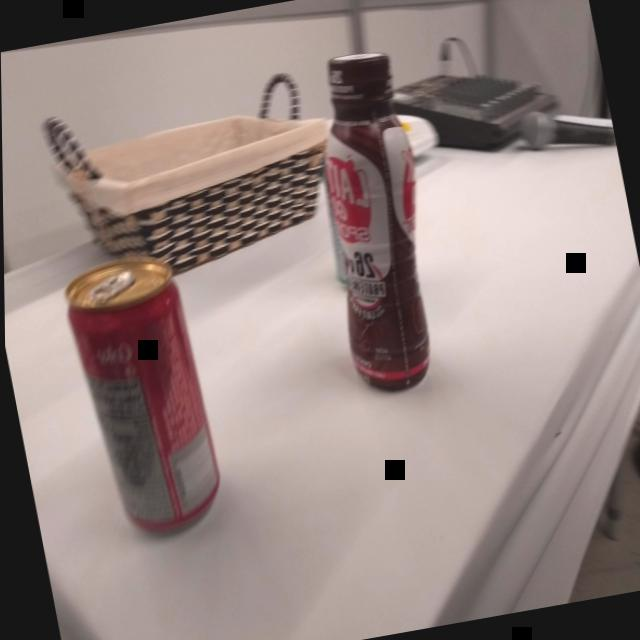chocolate_drink: (289, 43, 460, 403)
coke: (57, 247, 233, 551)
